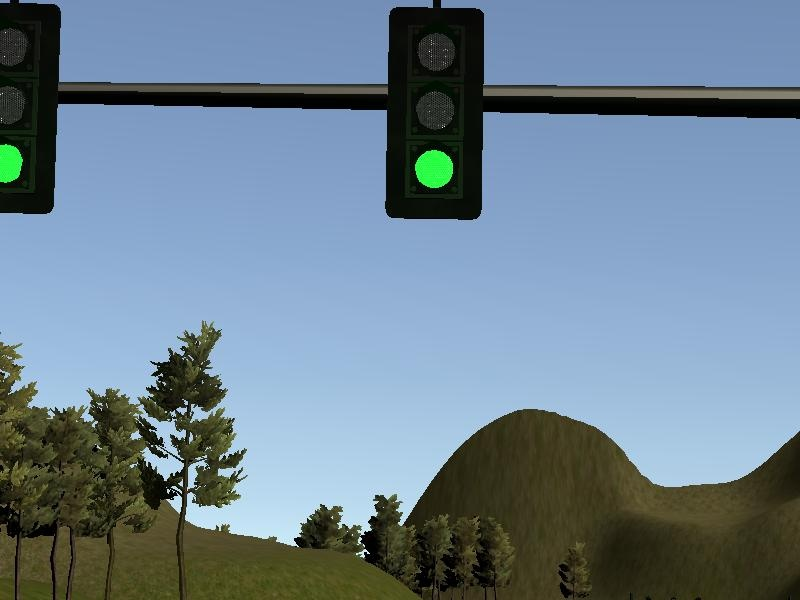GREEN: (385, 5, 484, 223), (1, 1, 59, 219)
